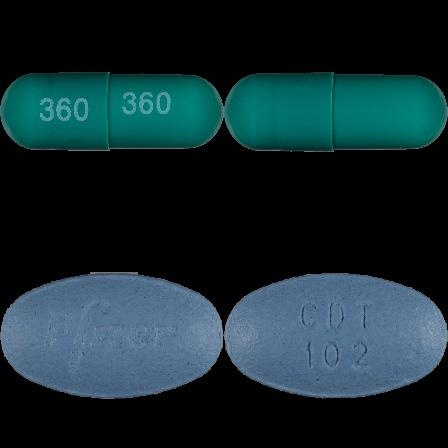54868-5208: (0, 0, 224, 224)
